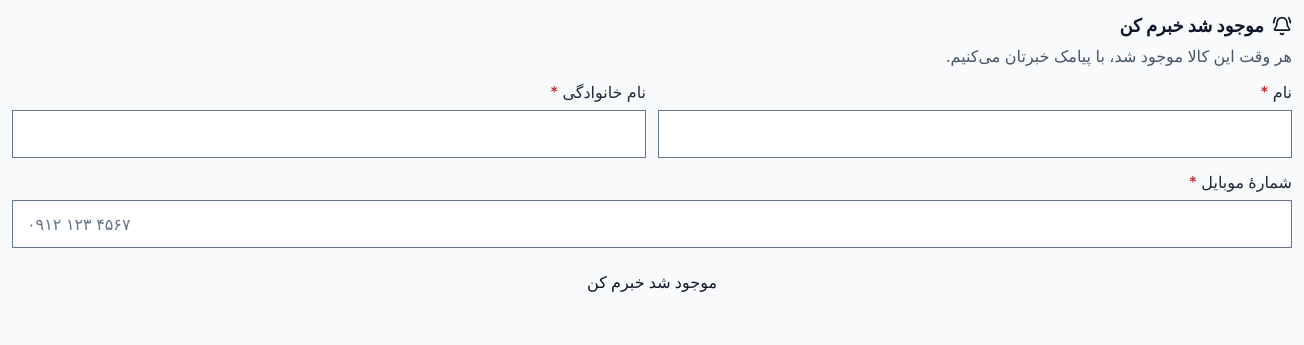
Test: NotifyMe for a guest › asks to reload in a moment when the product is back in stock already
Step 1. Type "سارا" into the field named "نام (" → (975, 134), box left=659, top=111, right=1291, bottom=157
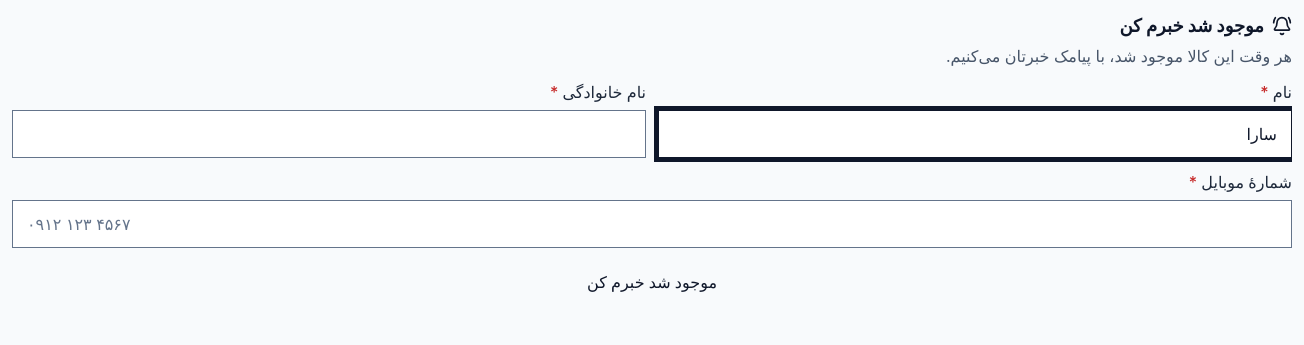
Step 2. Type "احمدی" into the field labelled "نام خانوادگی *" → (329, 134), box left=13, top=111, right=645, bottom=157
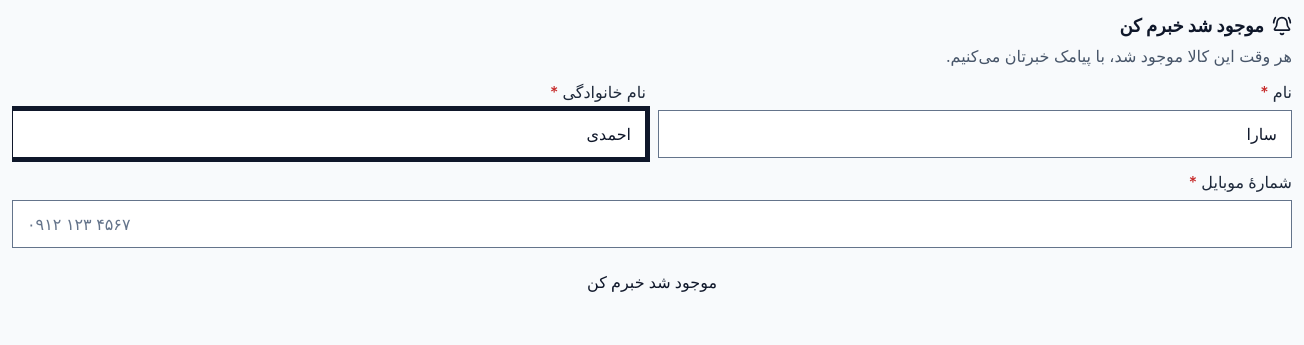
Step 3. Type "09121234567" into the field labelled "شمارهٔ موبایل *" → (652, 224), box left=13, top=201, right=1291, bottom=247
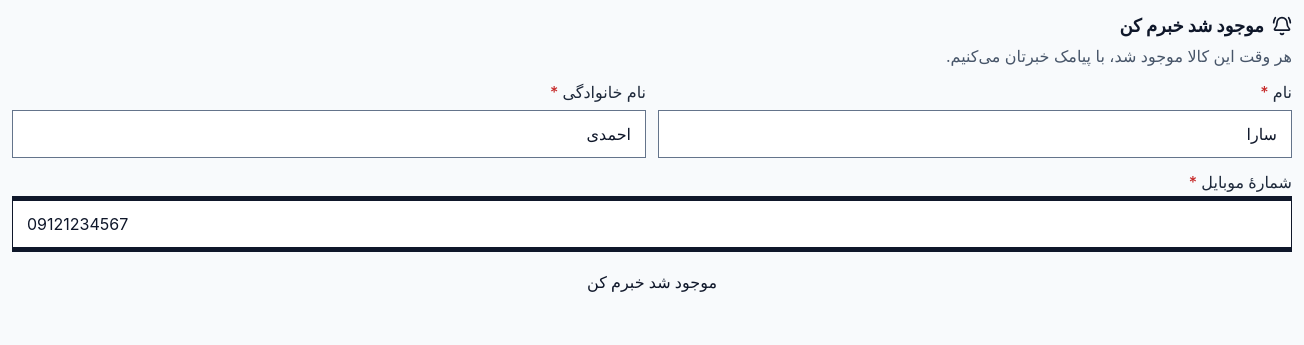
Step 4. Click the button "موجود شد خبرم کن" → (652, 282), box left=12, top=260, right=1292, bottom=304
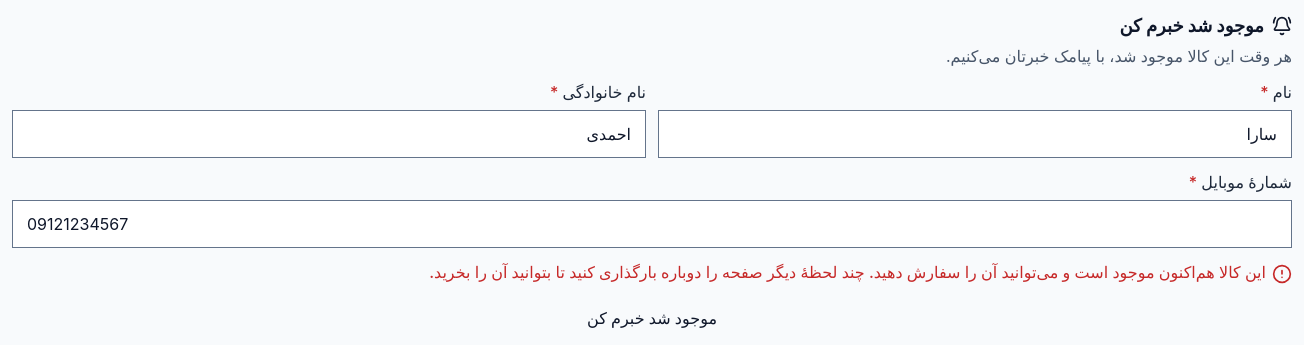
Check: the message shows "چند لحظهٔ دیگر صفحه را دوباره بارگذاری کنید تا بتوانید آن را بخرید.", box left=429, top=262, right=1266, bottom=282
